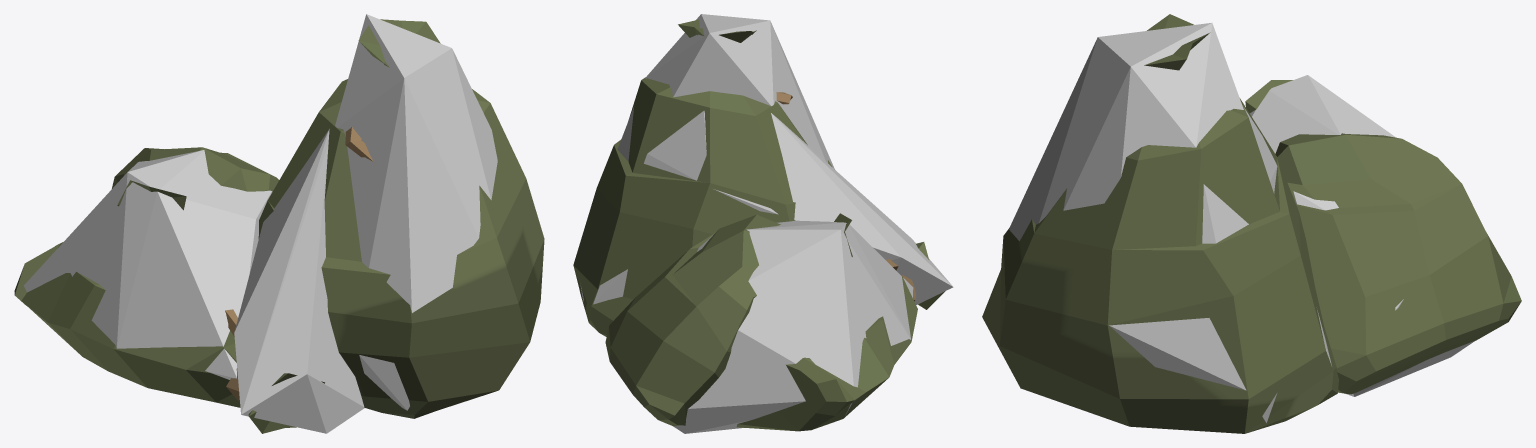
File: SM_Prop_Bundle_07.fbx
The picture shows the model from 3 angles, left to right: view 1: azimuth 30°, elevation 25°; view 2: azimuth 150°, elevation 25°; view 3: azimuth 270°, elevation 25°; orthographic projection. The views are drawn at different scales.
Visible parts, largest first — view 1: SM_Prop_Bundle_07_ConvexHulls, SM_Prop_Bundle_07; view 2: SM_Prop_Bundle_07, SM_Prop_Bundle_07_ConvexHulls; view 3: SM_Prop_Bundle_07, SM_Prop_Bundle_07_ConvexHulls.
Boxes of the visible parts, <box> form: SM_Prop_Bundle_07_ConvexHulls: <box>23,14,497,433</box>; SM_Prop_Bundle_07: <box>14,19,544,433</box>; SM_Prop_Bundle_07: <box>573,19,945,431</box>; SM_Prop_Bundle_07_ConvexHulls: <box>580,14,953,433</box>; SM_Prop_Bundle_07: <box>982,14,1521,433</box>; SM_Prop_Bundle_07_ConvexHulls: <box>1009,23,1475,422</box>.
Bounding box in the file's own units: 157 × 172 × 134.
Materials: 2 (1 with a texture image).
